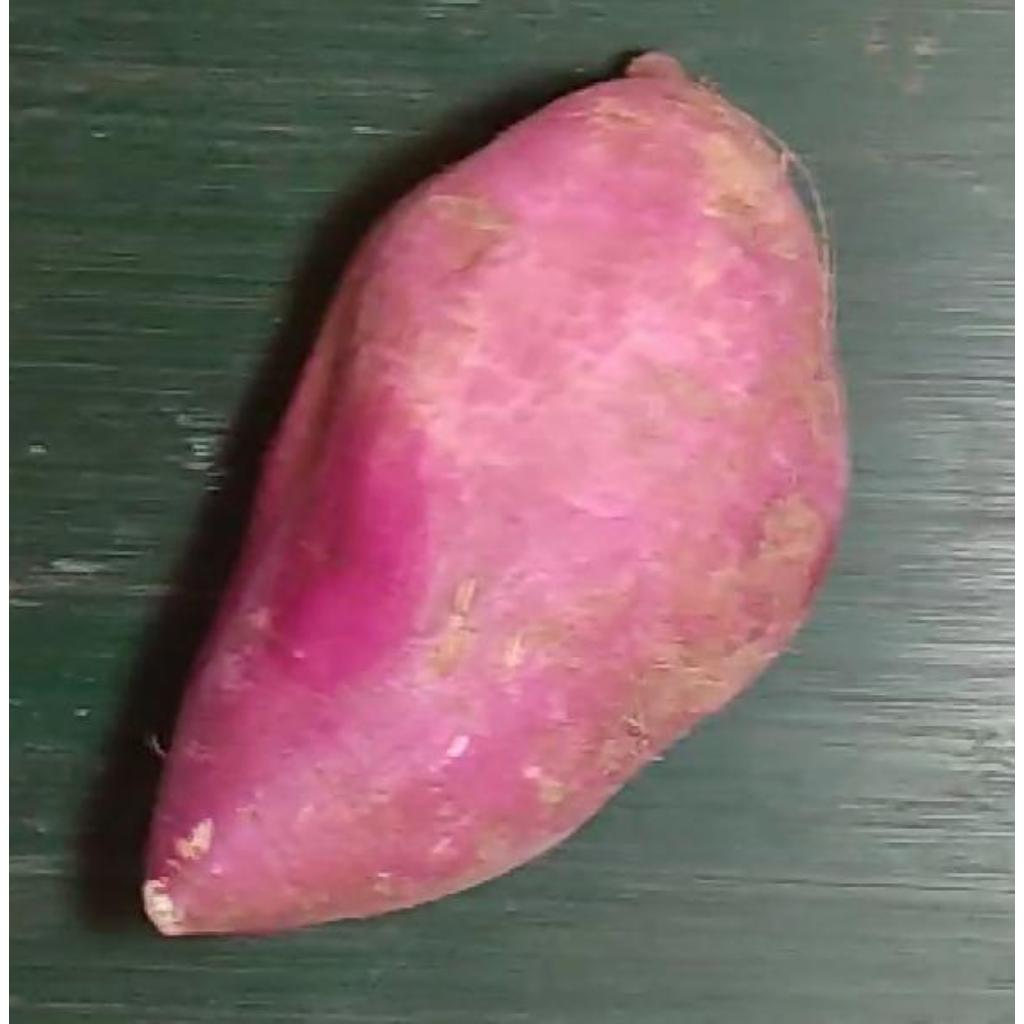Sweet Potato: (136, 50, 850, 942)
